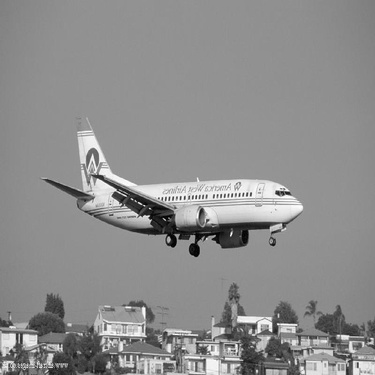airplane: (33, 113, 309, 251)
